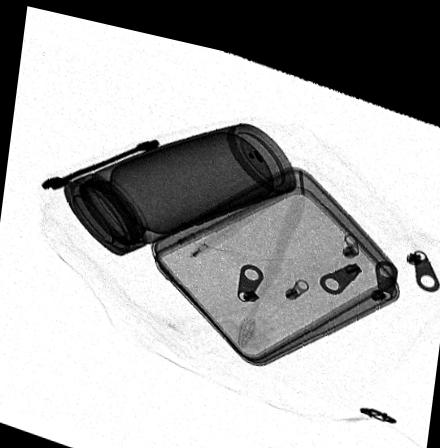Wrench: (38, 129, 161, 189)
